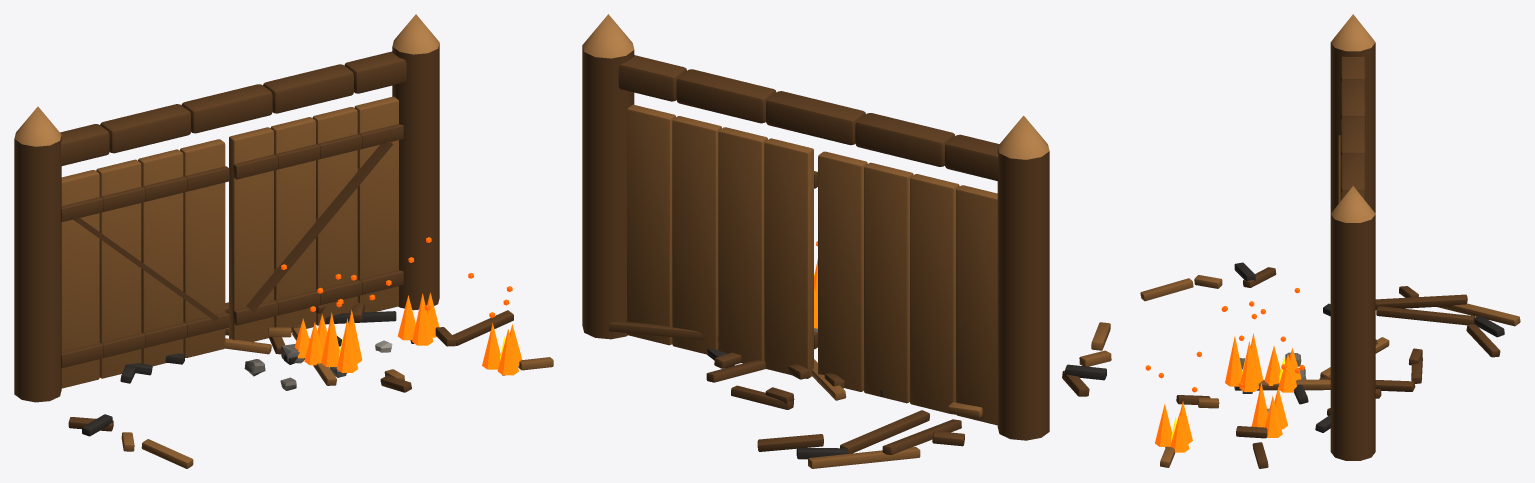
File: brama_etap1.glb
The picture shows the model from 3 angles, left to right: view 1: azimuth 30°, elevation 25°; view 2: azimuth 150°, elevation 25°; view 3: azimuth 270°, elevation 25°; orthographic projection. The views are drawn at different scales.
Parts seen in each view (by area): view 1: brama_etap1; view 2: brama_etap1; view 3: brama_etap1.
Part boxes in pixels (left/top/right/bottom): brama_etap1: left=14, top=14, right=553, bottom=468; brama_etap1: left=582, top=14, right=1111, bottom=468; brama_etap1: left=1140, top=14, right=1520, bottom=468.
Size of the model in its own units: 7.66 by 4.79 by 6.08.
